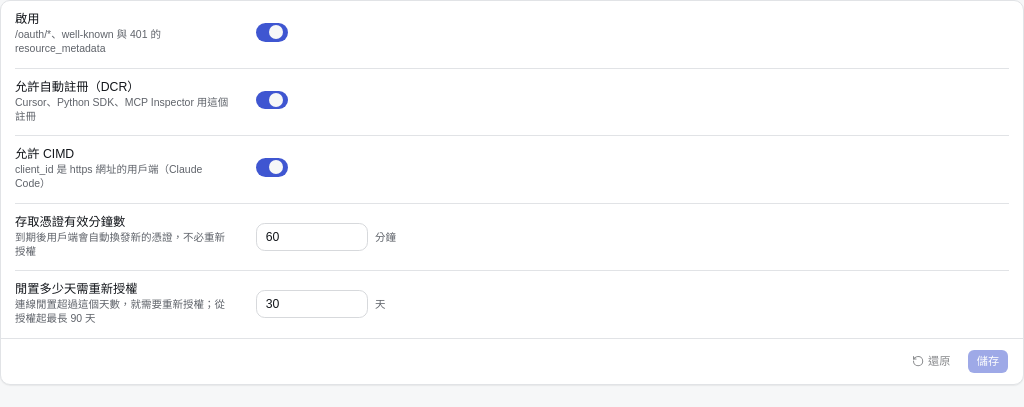
Test case: fields, inline range error, and a save that sends only the changes
The width and height of the screenshot is (1024, 407).
Later steps or results of the test are not shown.
Expected: the switch named "啟用" in the row of "啟用" is checked, [256, 23, 288, 42]
Expected: the switch named "允許自動註冊（DCR）" next to "Cursor、Python SDK、MCP Inspector 用這個註冊" is checked, [256, 91, 288, 109]
Step 1. Clear the number field labelled "存取憑證有效分鐘數" → [312, 237], box [256, 223, 368, 251]
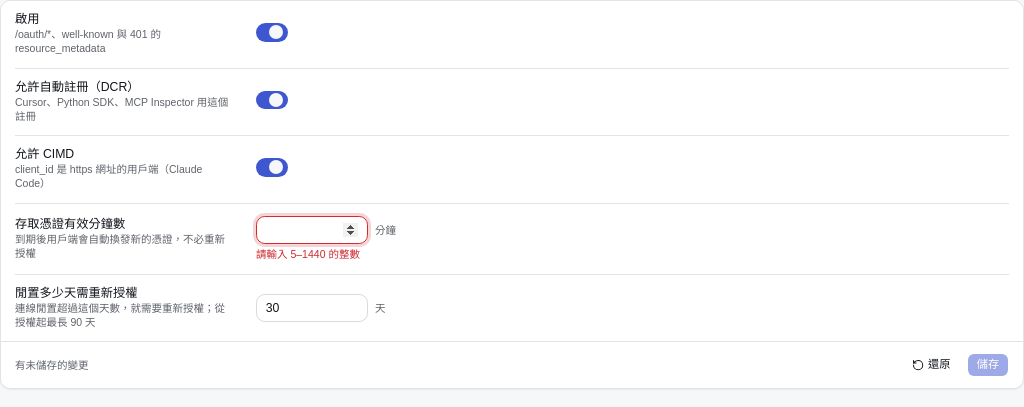
Step 2. Type "2" into the number field labelled "存取憑證有效分鐘數" → [312, 230], box [256, 216, 368, 244]
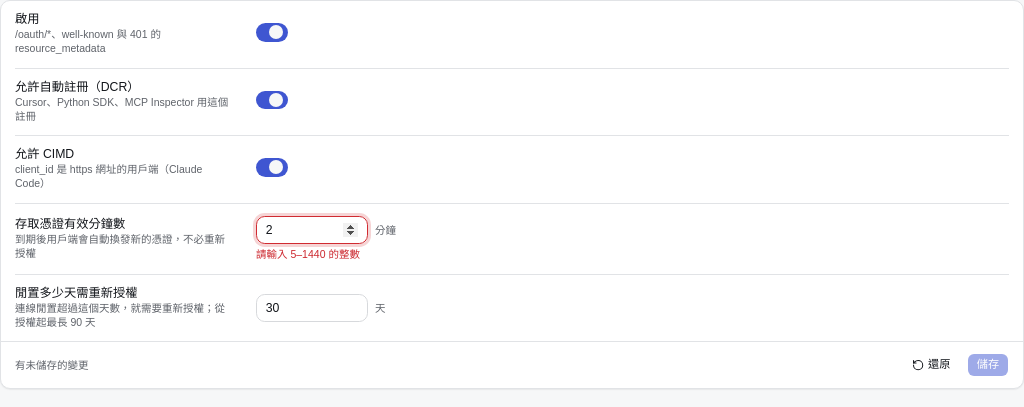
Expected: the button "儲存" is disabled, [967, 352, 1009, 377]
Expected: the message reads "請輸入 5–1440 的整數", [256, 248, 360, 260]
Step 3. Replace the text in the number field labelled "存取憑證有效分鐘數" with "15" → [312, 230], box [256, 216, 368, 244]
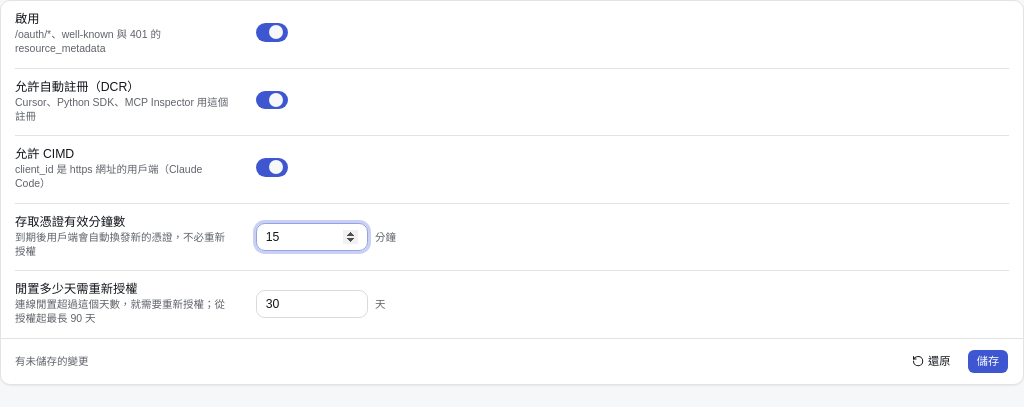
Expected: the message "請輸入 5–1440 的整數" is gone
